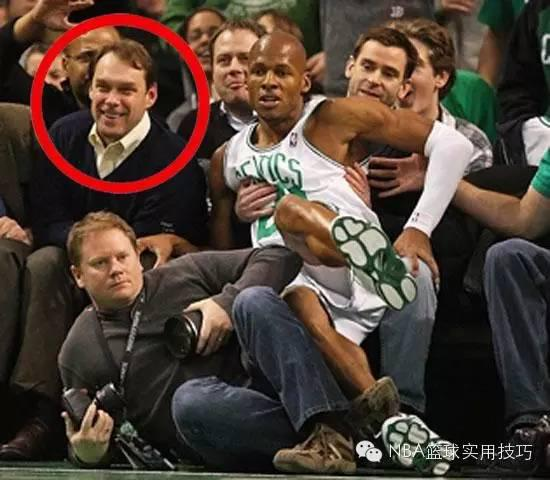10+: (1, 1, 550, 477)
down: (48, 192, 396, 473)
